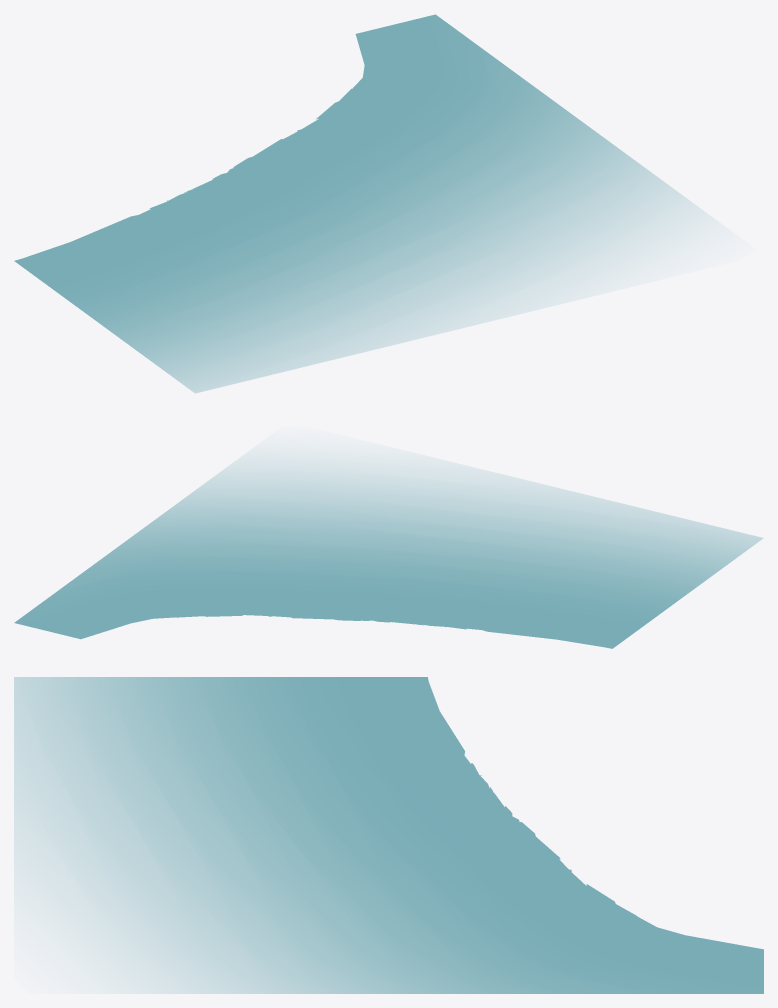
3 views of the same model, one above another, from view 1: azimuth 30°, elevation 25°; view 2: azimuth 150°, elevation 25°; view 3: azimuth 270°, elevation 25° (orthographic). The views are drawn at different scales.
Visible parts, largest first — view 1: city; view 2: city; view 3: city.
Boxes of the visible parts, left/top/right/bottom form: city: left=14, top=14, right=713, bottom=393; city: left=14, top=452, right=763, bottom=648; city: left=14, top=677, right=763, bottom=993.
Bounding box in the file's own units: 500 × 0 × 500.
